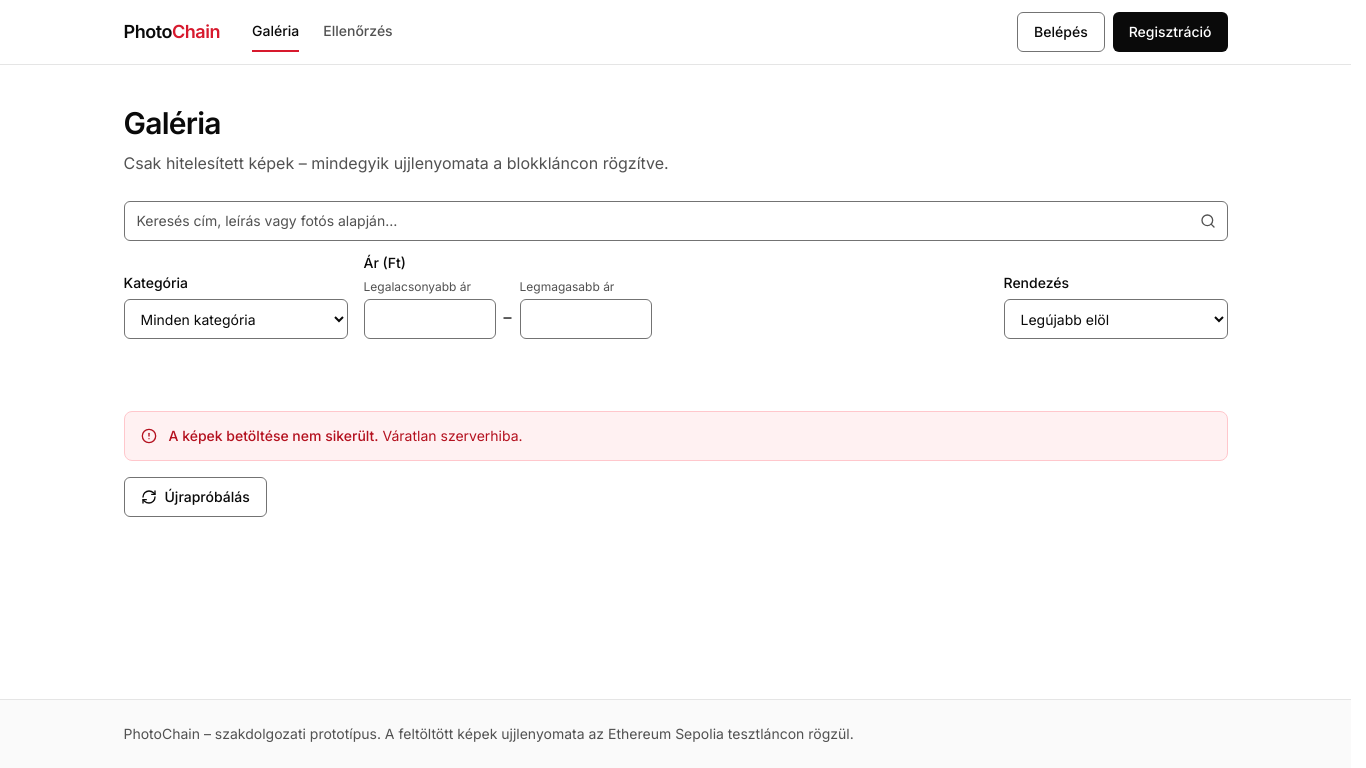
Test case: GalleryPage – betöltés › ha újrapróbálás közben máshová vitte a fókuszt, ott hagyja, és a sikert bejelenti
Expected: the message "A képek betöltése nem sikerült. Váratlan szerverhiba." is shown, [124,411,1228,461]
Click the button "Újrapróbálás". click: (195,497)
box: [124,477,267,517]
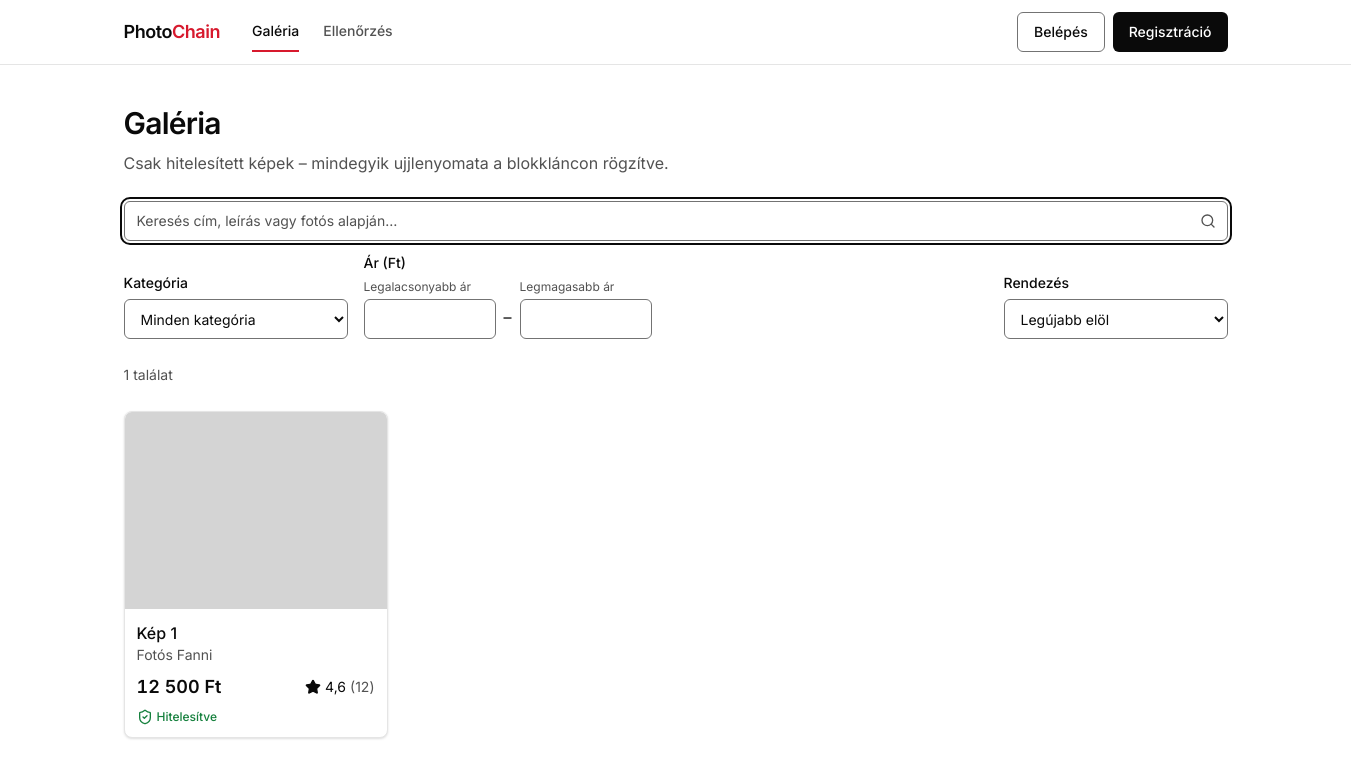
Now the link "Kép 1" is shown, box [136,622,177,642]
